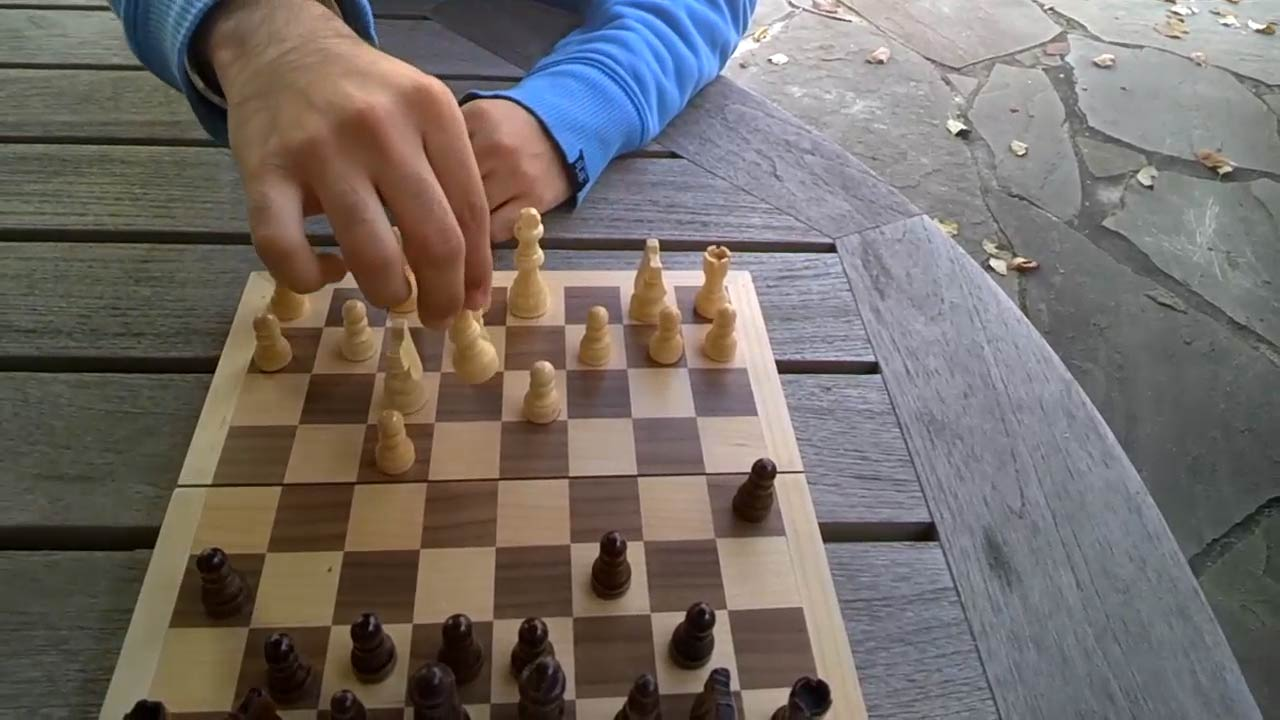hand: (224, 24, 485, 316), (464, 96, 568, 233)
